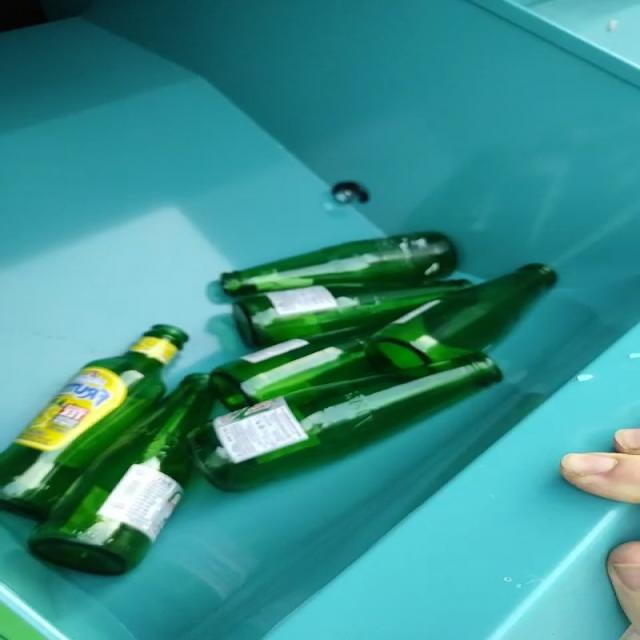glass: (0, 233, 556, 575)
